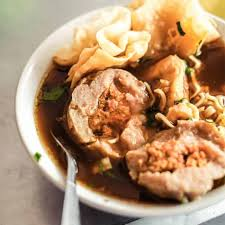bakso: (42, 51, 225, 195)
